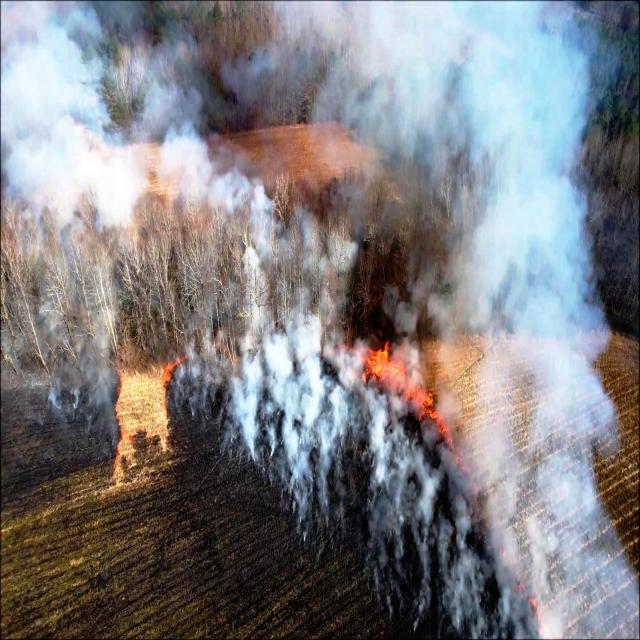Fire: (362, 341, 416, 409)
Smoke: (228, 0, 640, 332), (476, 340, 640, 640), (2, 5, 152, 278), (228, 332, 342, 546), (368, 420, 456, 640)
